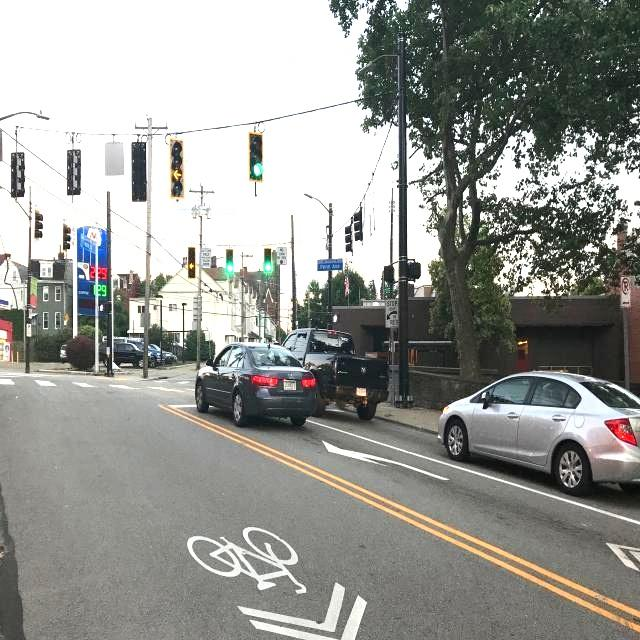Green: (243, 128, 273, 188), (257, 242, 283, 284), (223, 240, 242, 284)
Yellow: (160, 137, 193, 208), (180, 238, 203, 284)
